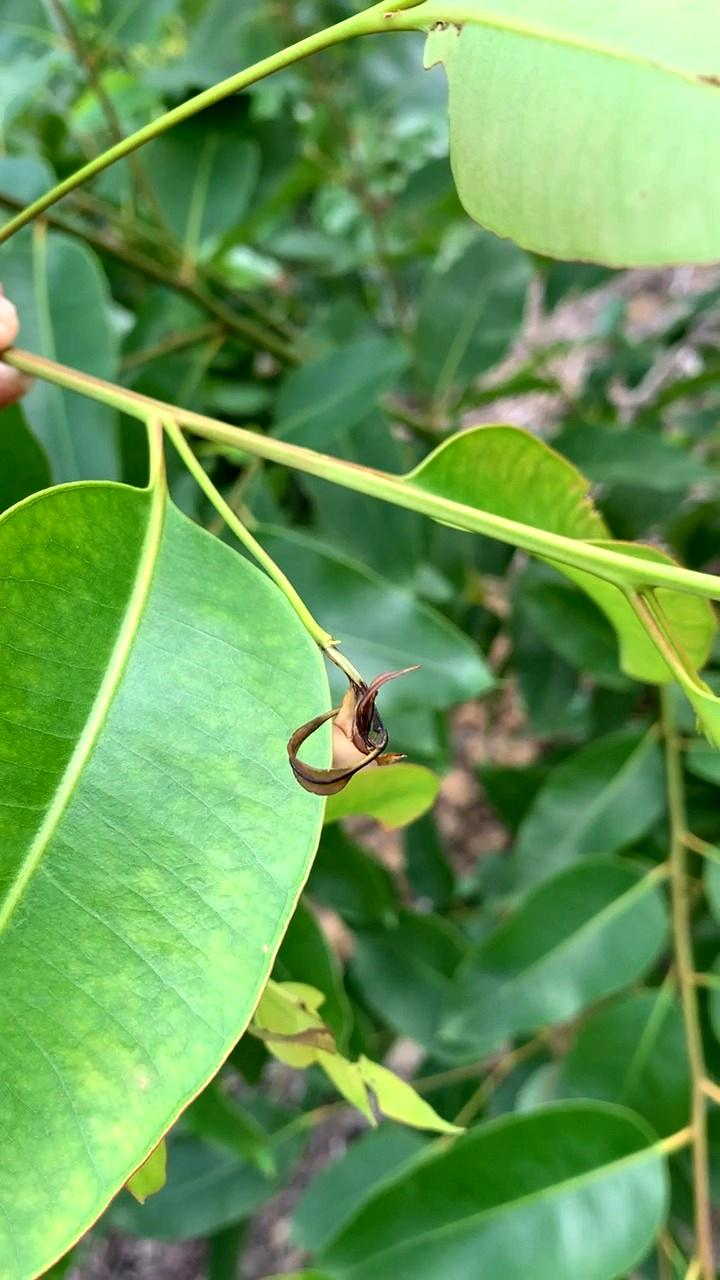Helopeltis-Withered Sprout: (276, 663, 417, 791)
